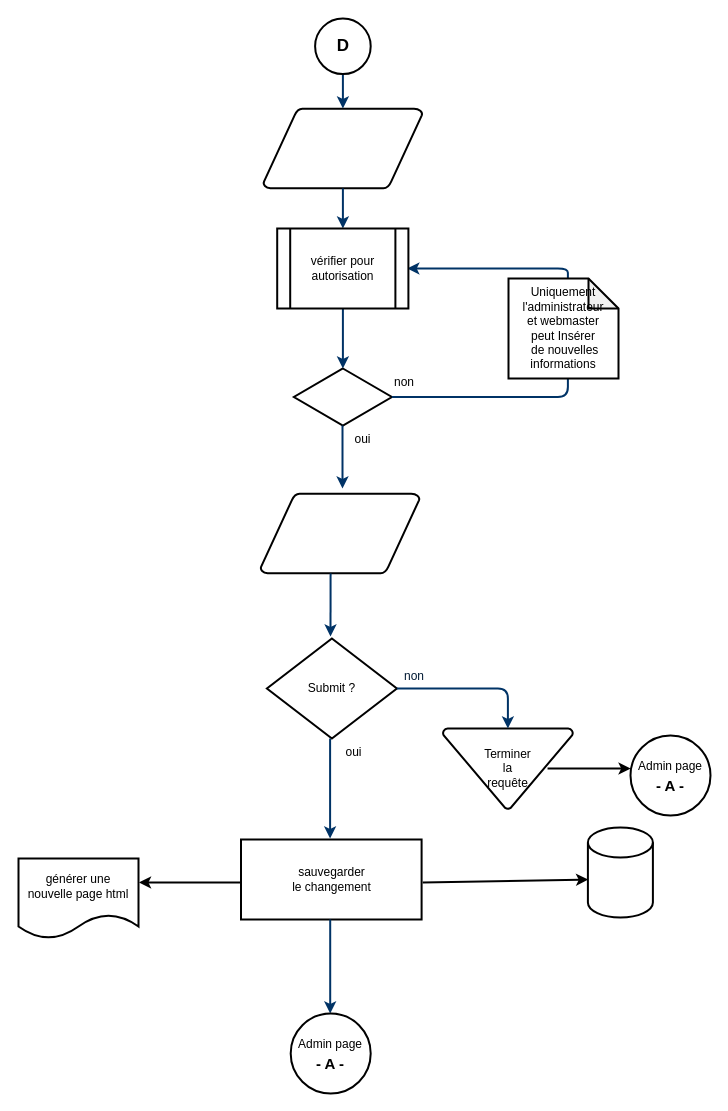
Some shapes in this 728 by 1111 pixel diagram are drawn without their labels. The box of each missing label's shape, as (x1, y1, x2, y2) in pixels:
Autorisation?: (292, 367, 392, 426)
formulaire pour l'insertion d'informations: (259, 492, 420, 574)
Insérer de nouvelles informations: (262, 107, 423, 189)
Mettre à jour le BD json: (586, 826, 653, 918)
